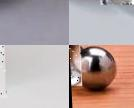ironball: (70, 45, 115, 97), (69, 45, 81, 86)
